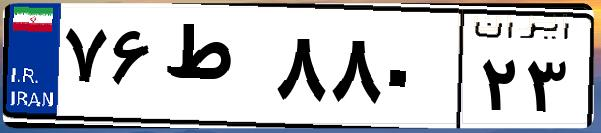0: (385, 28, 445, 110)
2: (475, 38, 525, 113)
3: (525, 38, 570, 115)
6: (110, 28, 158, 98)
7: (57, 26, 110, 100)
8: (270, 28, 330, 110), (330, 28, 385, 110)
ط: (158, 20, 270, 120)
